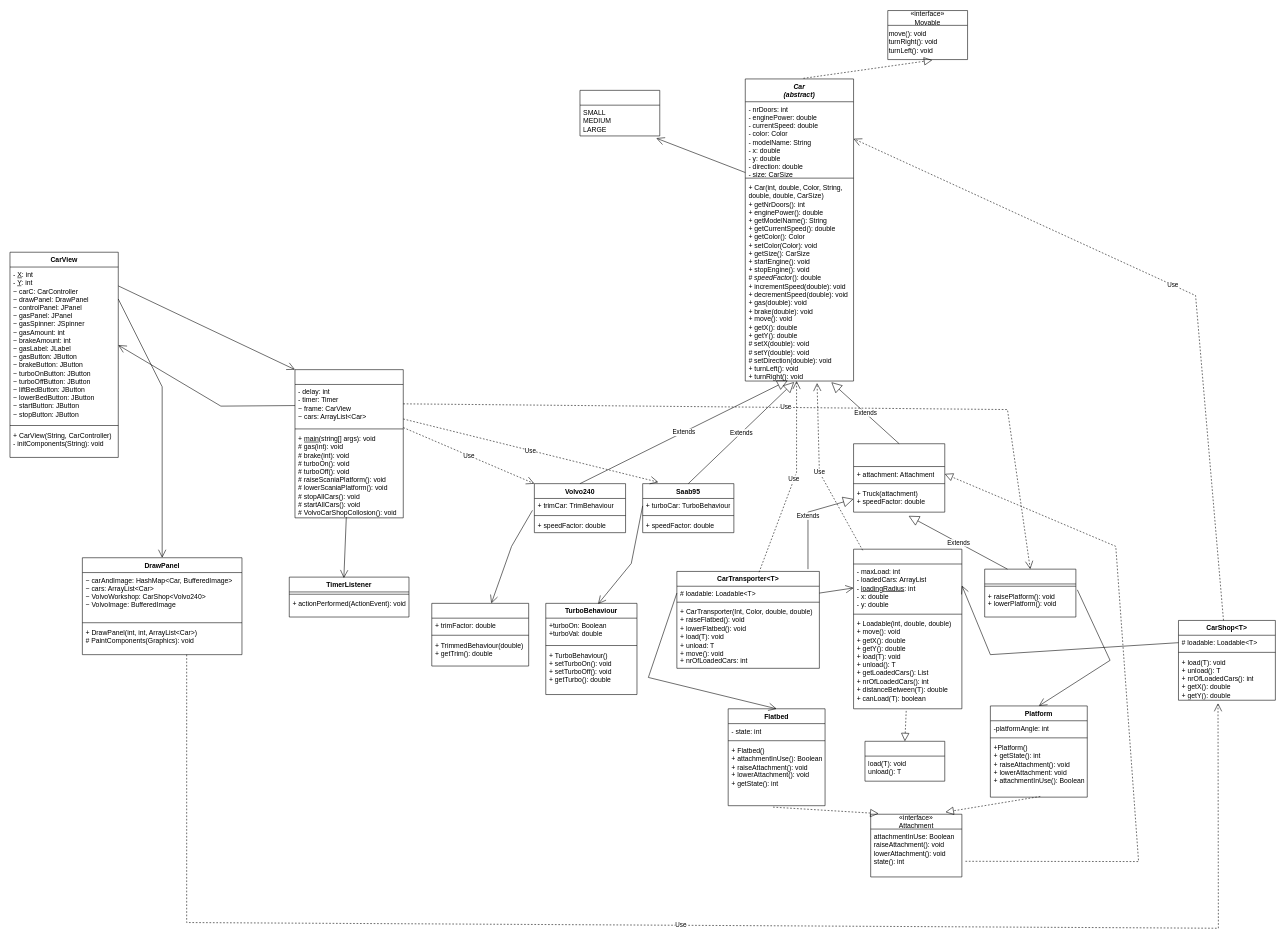
Some shapes in this 1285 by 946 pixel diagram are drawn without their labels. The shapes that lost their labels are listed below. From the top down, each one's box as (x1, y1, x2, y2) in pixels, then its label:
(579, 90, 660, 136): CarSize
(294, 369, 403, 518): CarController
(853, 443, 945, 512): Truck (abstract )
(984, 569, 1076, 617): Scania
(431, 603, 529, 666): TrimBehaviour
(853, 549, 962, 709): Loadable<T>
(864, 741, 945, 781): «interface» Loading<T>
